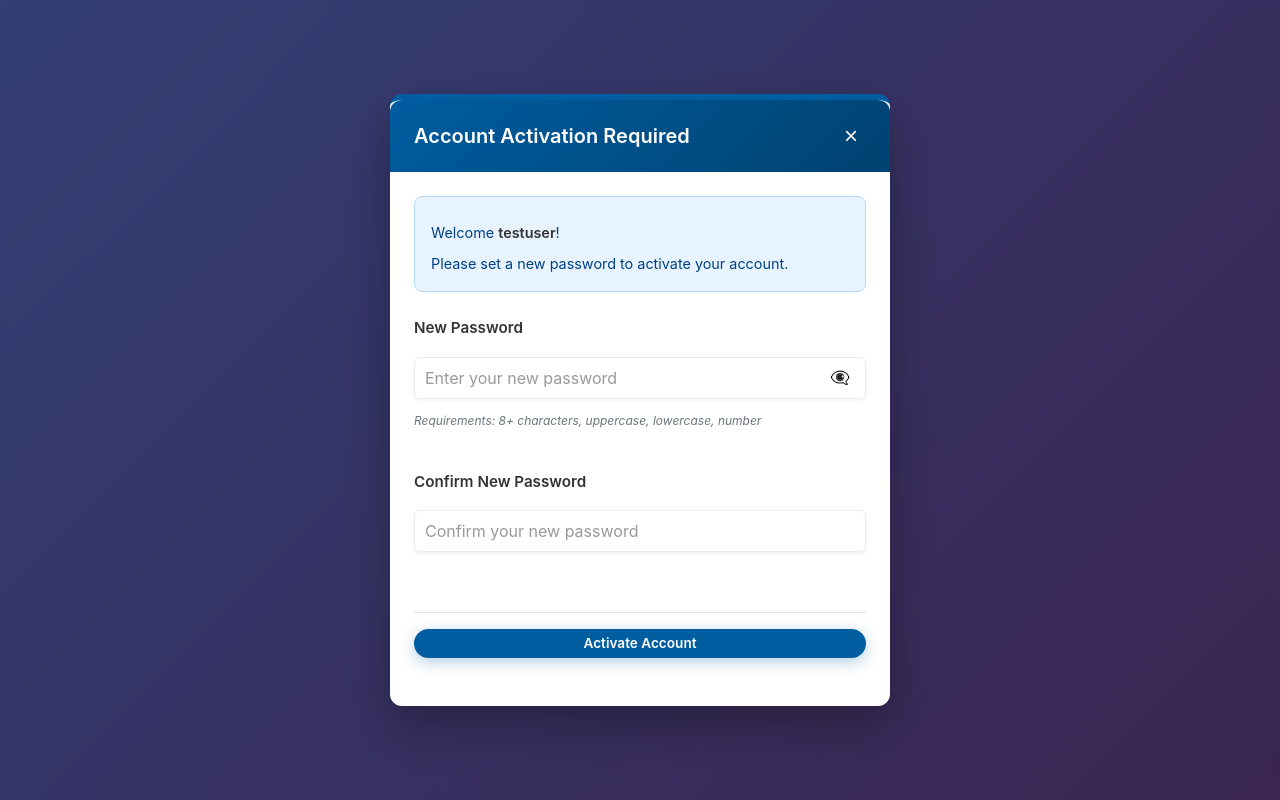
Test case: PasswordChangeModal Component › Form Input Handling › does not clear error for other fields when typing (line 42 condition false)
// Submit to trigger errors
Click the button "Activate Account" at (640, 644), box [414, 629, 866, 658]
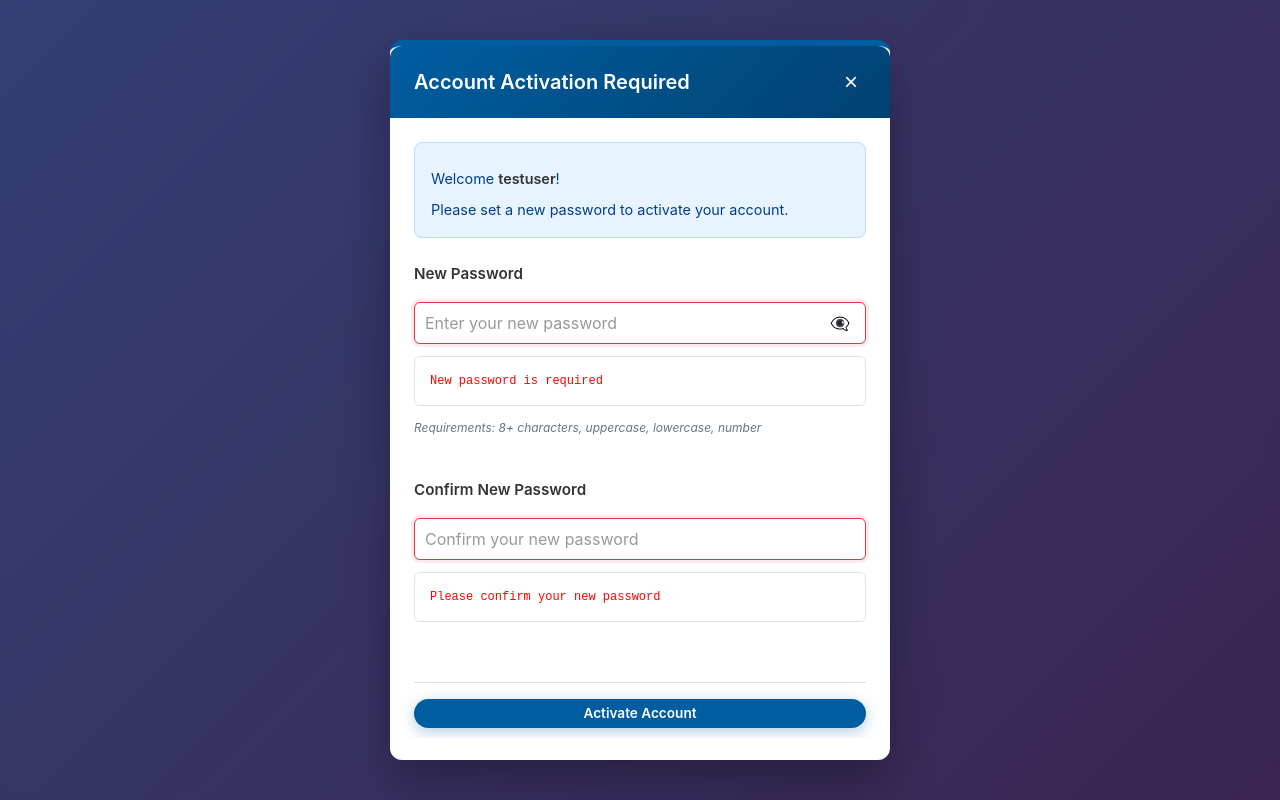
Result: the text "New password is required" is shown at [414, 356, 866, 406]
Result: the text "Please confirm your new password" is shown at [414, 572, 866, 622]
// Type in newPassword field
Type "pass" into the password field with placeholder "Enter your new password" at (640, 323), box [414, 302, 866, 344]
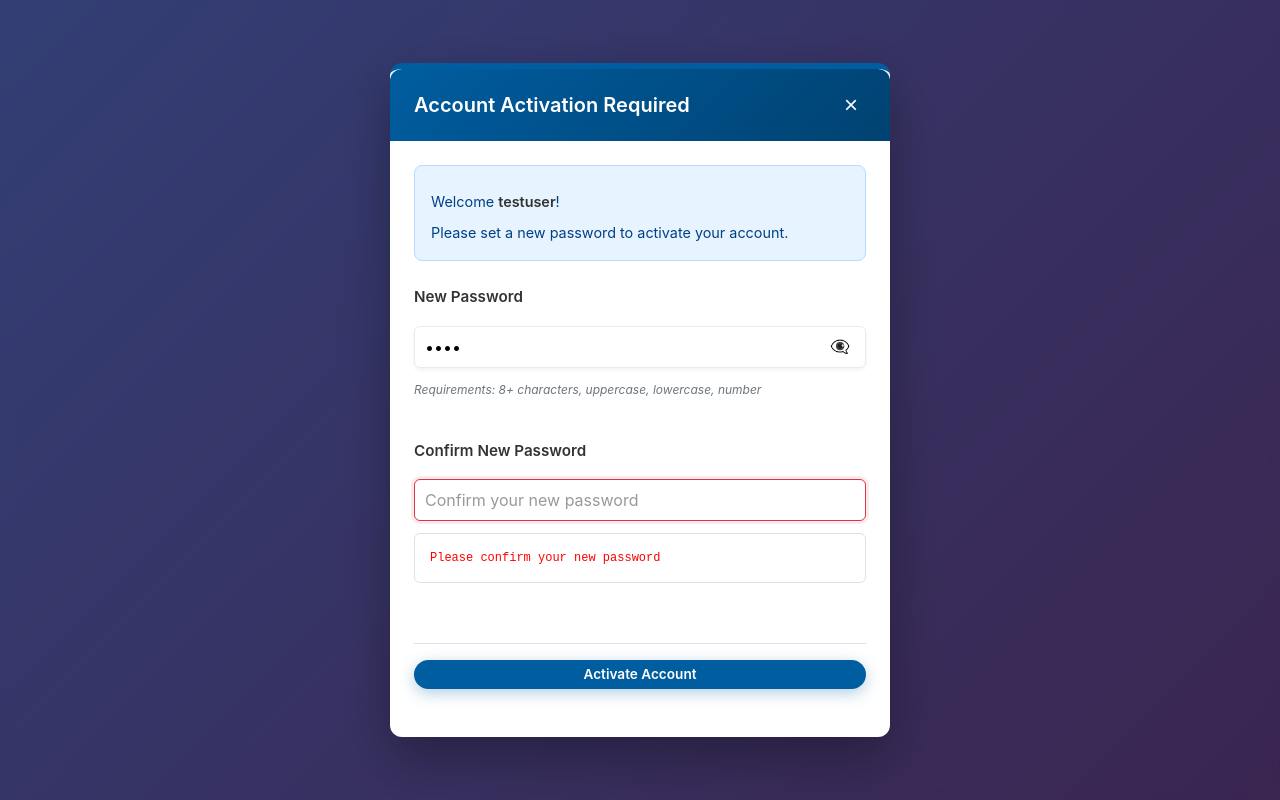
Result: the text "Please confirm your new password" is shown at [414, 533, 866, 583]
Result: the text "New password is required" is gone
